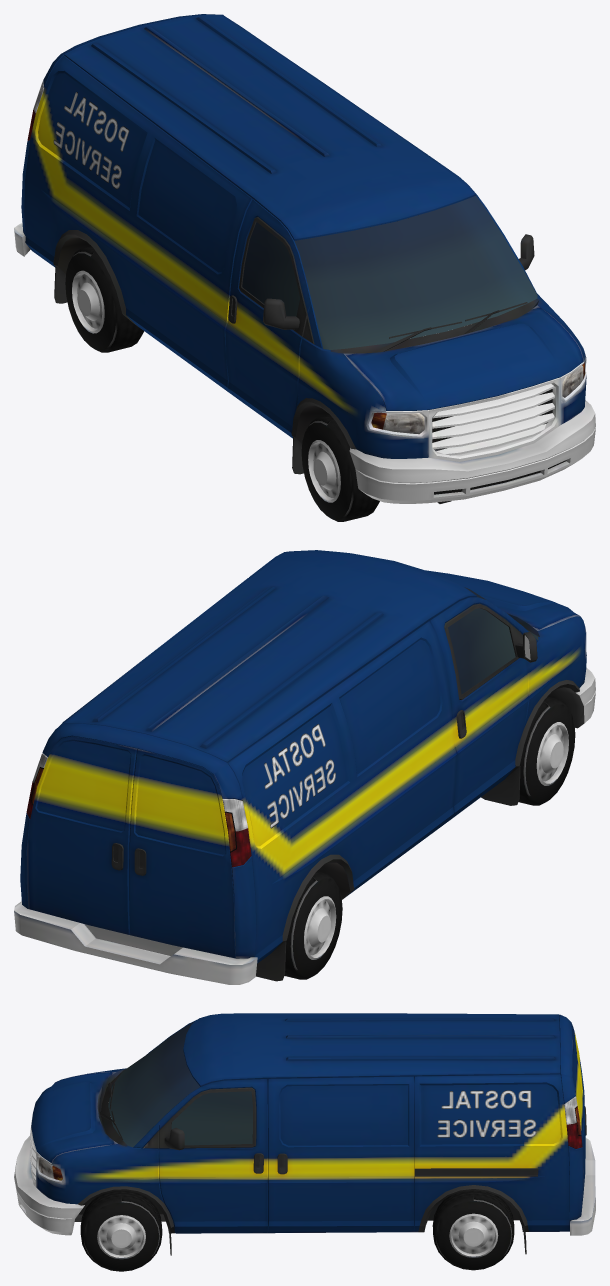
Rendered from postvan.glb.
The picture shows the model from 3 angles, top to bottom: view 1: azimuth 30°, elevation 25°; view 2: azimuth 150°, elevation 25°; view 3: azimuth 270°, elevation 25°; orthographic projection. The views are drawn at different scales.
Parts seen in each view (by area): view 1: postvan body, Front Right Wheel, Rear Right Wheel; view 2: postvan body, Front Right Wheel, Rear Right Wheel; view 3: postvan body, Front Left Wheel, Rear Left Wheel.
Part boxes in pixels (x1=…): postvan body: x1=14, y1=14, x2=595, y2=503; Front Right Wheel: x1=301, y1=414, x2=379, y2=521; Rear Right Wheel: x1=65, y1=246, x2=143, y2=352; postvan body: x1=14, y1=550, x2=595, y2=984; Front Right Wheel: x1=518, y1=696, x2=575, y2=805; Rear Right Wheel: x1=284, y1=871, x2=342, y2=979; postvan body: x1=14, y1=1013, x2=595, y2=1255; Front Left Wheel: x1=80, y1=1191, x2=162, y2=1271; Rear Left Wheel: x1=432, y1=1190, x2=514, y2=1270.
Size of the model in its own units: 2.19 by 1.98 by 5.35.
Materials: 1 (1 with a texture image).
